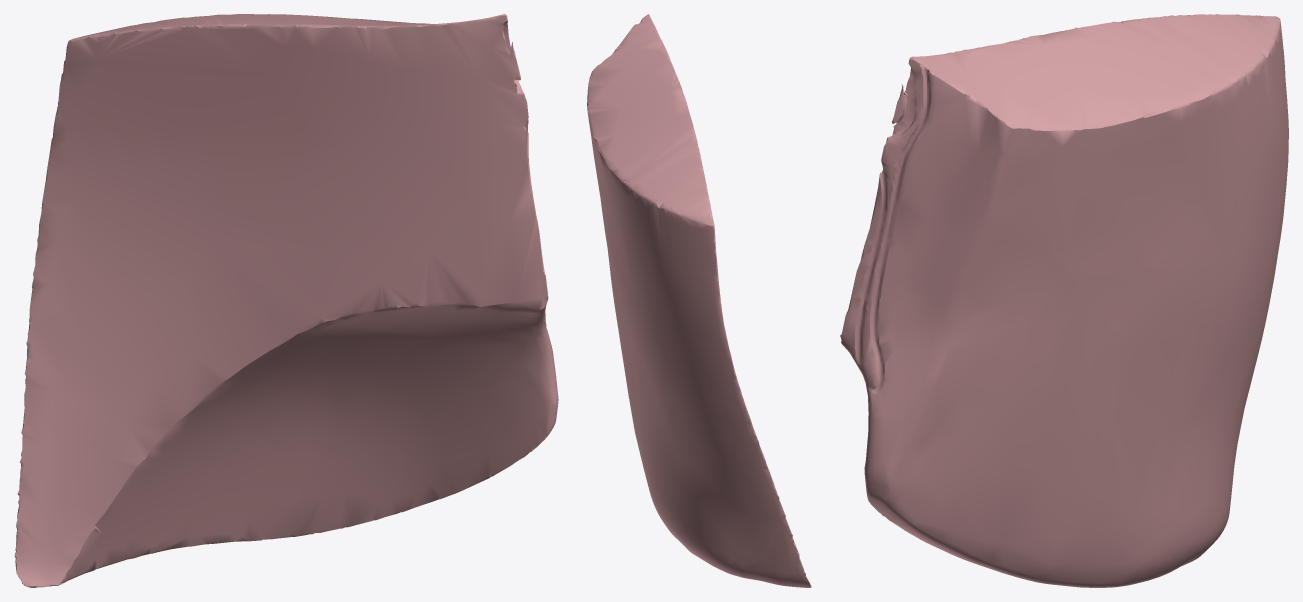
File: fma27393_fj6605.glb
The picture shows the model from 3 angles, left to right: view 1: azimuth 30°, elevation 25°; view 2: azimuth 150°, elevation 25°; view 3: azimuth 270°, elevation 25°; orthographic projection. The views are drawn at different scales.
Parts seen in each view (by area): view 1: FMA27393_FJ6605; view 2: FMA27393_FJ6605; view 3: FMA27393_FJ6605.
Part boxes in pixels (left/top/right/bottom): FMA27393_FJ6605: left=14, top=14, right=558, bottom=587; FMA27393_FJ6605: left=587, top=14, right=811, bottom=587; FMA27393_FJ6605: left=840, top=14, right=1288, bottom=587.
Size of the model in its own units: 0.0762 by 0.1093 by 0.0723.
